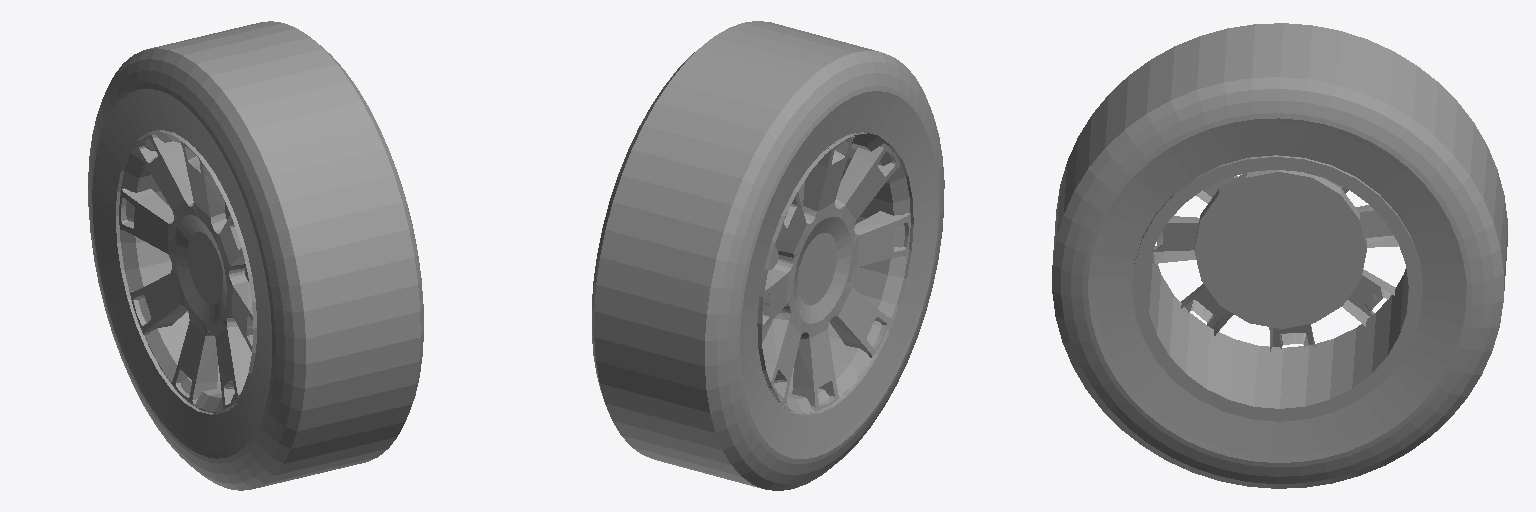
The model's file is rechts.obj.
3 views of the same model, side by side, from view 1: azimuth 30°, elevation 25°; view 2: azimuth 150°, elevation 25°; view 3: azimuth 270°, elevation 25° (orthographic).
Visible parts, largest first — view 1: lincoln_navigator; view 2: lincoln_navigator; view 3: lincoln_navigator.
Boxes of the visible parts, <box> form: lincoln_navigator: <box>88,21,423,490</box>; lincoln_navigator: <box>592,21,944,490</box>; lincoln_navigator: <box>1052,23,1507,488</box>.
Size of the model in its own units: 0.9598 by 2.44 by 2.45.